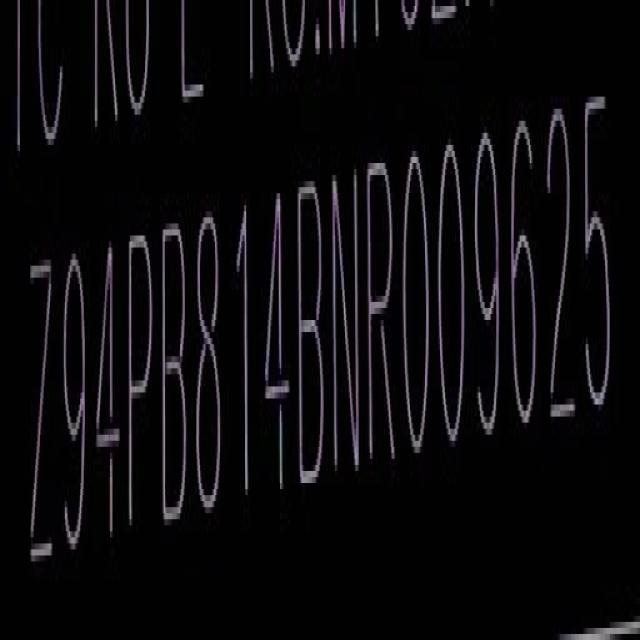0: (401, 143, 434, 462), (437, 140, 467, 452)
1: (236, 196, 253, 509)
2: (547, 102, 579, 430)
4: (262, 179, 293, 495), (96, 245, 123, 554)
5: (584, 81, 617, 418)
6: (511, 114, 539, 445)
8: (195, 210, 226, 517)
9: (472, 127, 503, 441), (62, 250, 89, 560)
B: (160, 217, 190, 534), (298, 175, 328, 491)
N: (330, 165, 360, 478)
P: (128, 225, 157, 541)
R: (366, 157, 398, 468)
Z: (27, 244, 56, 576)
